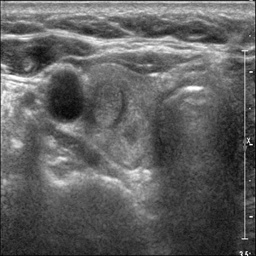mass: (91, 80, 123, 126)
